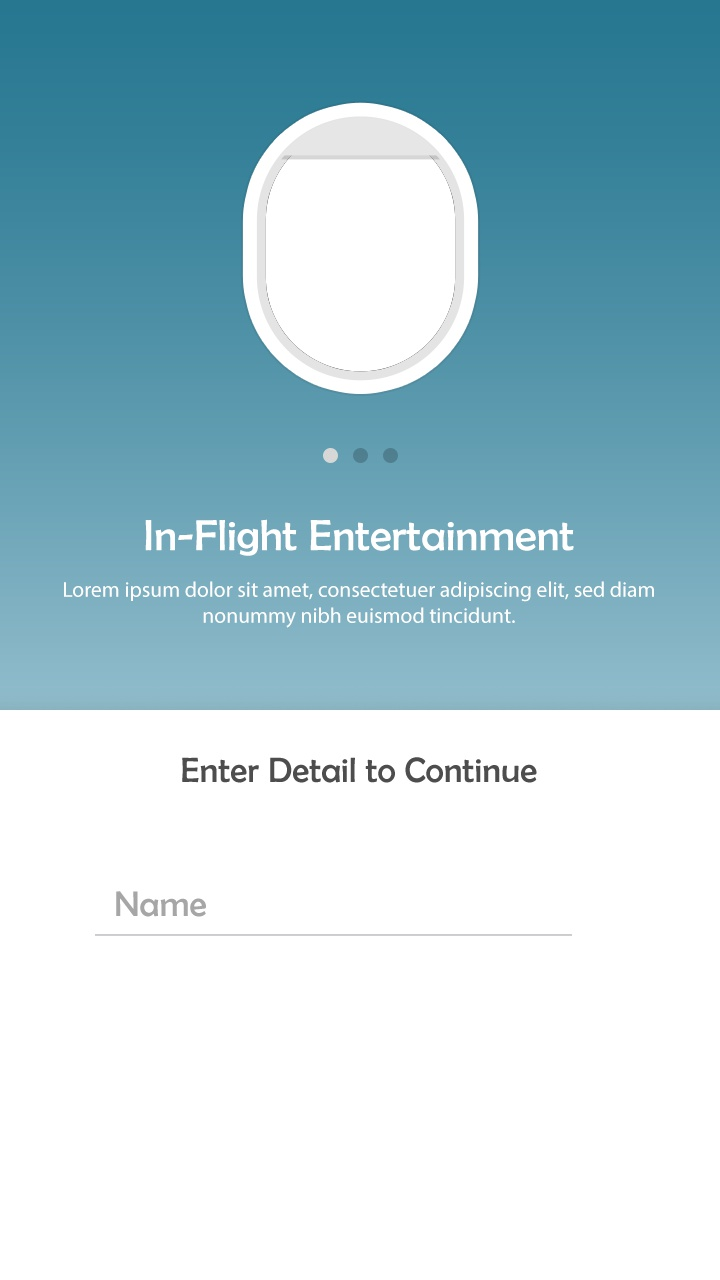EditText: (95, 891, 572, 937)
Image: (242, 102, 480, 397)
PageIndicator: (320, 446, 400, 467)
Text: (63, 580, 655, 629), (145, 518, 576, 558), (181, 756, 538, 784), (117, 891, 207, 917)
